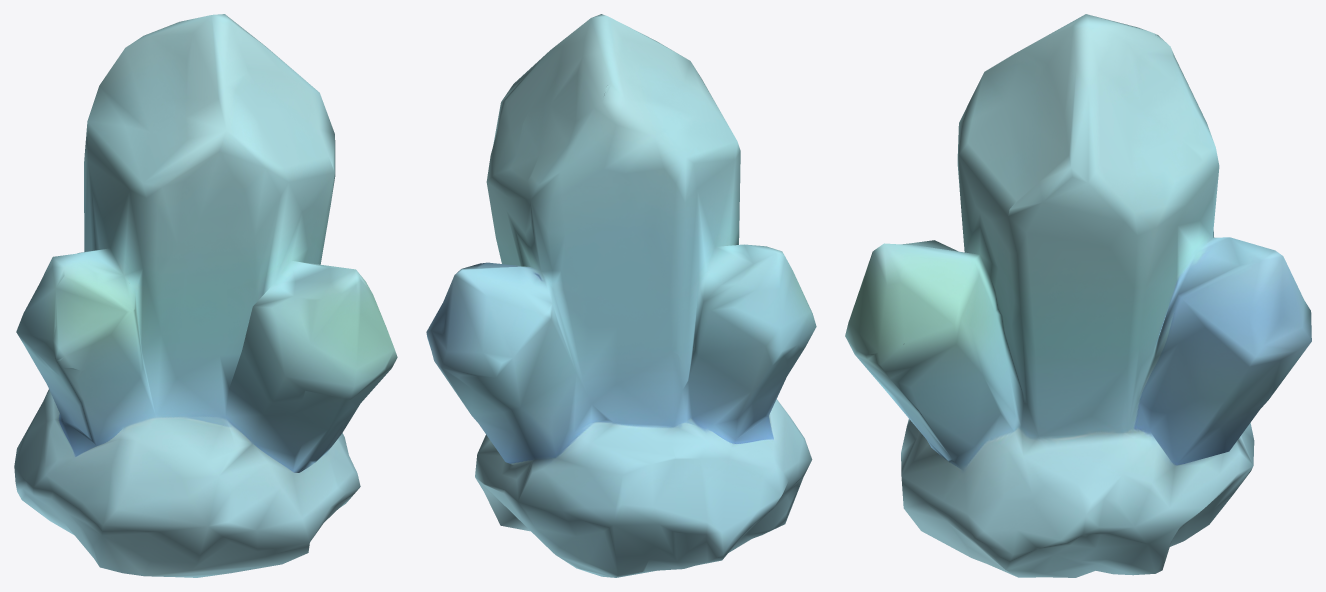
The model's file is crystal.glb.
3 renders of one model, left to right at view 1: azimuth 30°, elevation 25°; view 2: azimuth 150°, elevation 25°; view 3: azimuth 270°, elevation 25°, orthographic. The views are drawn at different scales.
Parts seen in each view (by area): view 1: tripo_node_cb4d1d40-4d7d-4958-8a14-c40949773751; view 2: tripo_node_cb4d1d40-4d7d-4958-8a14-c40949773751; view 3: tripo_node_cb4d1d40-4d7d-4958-8a14-c40949773751.
Part boxes in pixels (x1=…): tripo_node_cb4d1d40-4d7d-4958-8a14-c40949773751: x1=14, y1=14, x2=397, y2=577; tripo_node_cb4d1d40-4d7d-4958-8a14-c40949773751: x1=426, y1=14, x2=816, y2=577; tripo_node_cb4d1d40-4d7d-4958-8a14-c40949773751: x1=845, y1=14, x2=1311, y2=577.
Size of the model in its own units: 0.585 by 1 by 0.7353.
Materials: 1 (1 with a texture image).
